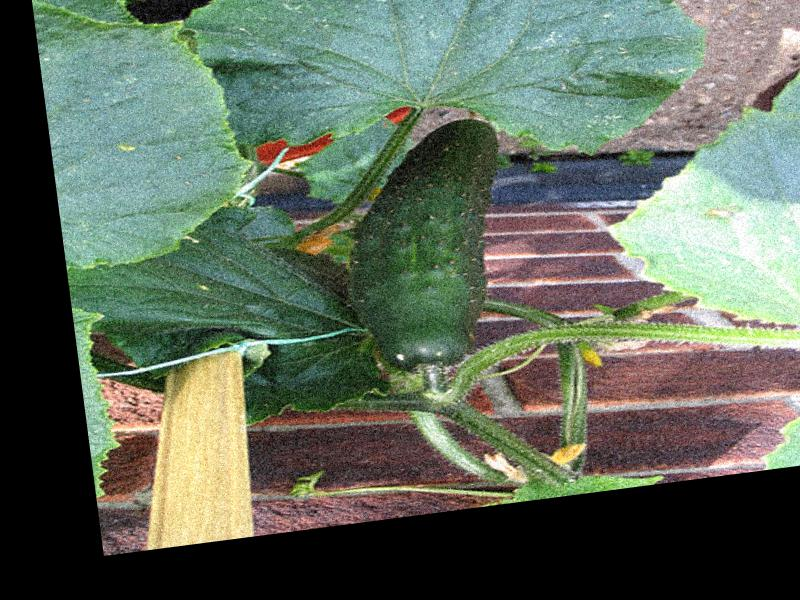Cucumber: (331, 114, 530, 377)
